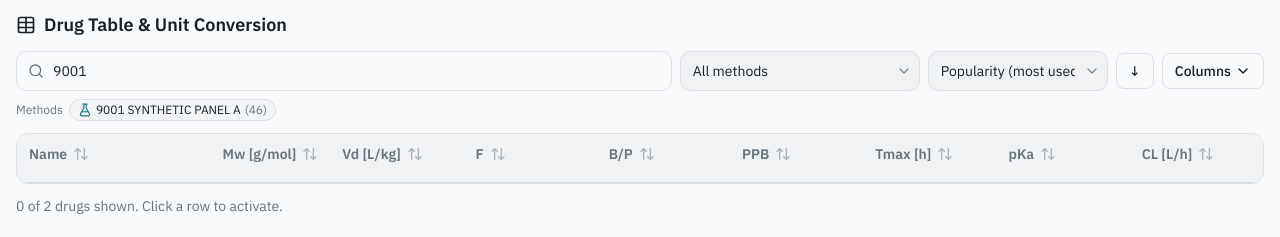
Test: drug table — searching for and filtering by analytical methods › filters the table to the method components and clears the query when a suggestion is picked
Click the button with aria-label "filter by method 9001 SYNTHETIC PANEL A" at {"x": 172, "y": 110}, box [69,99,276,121]
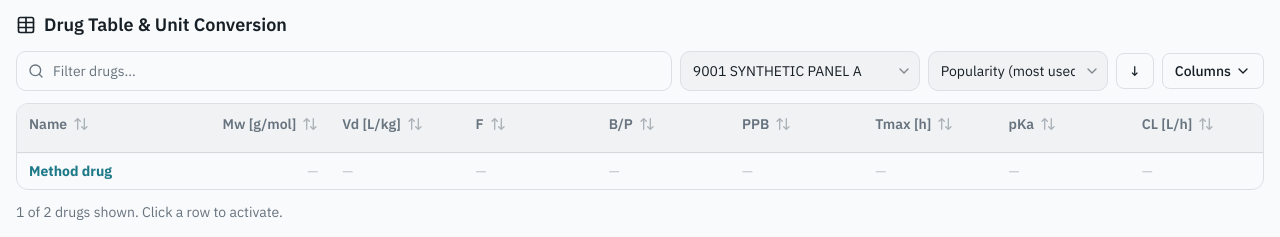
Now the text "Method drug" is shown, box [29,162,112,180]
